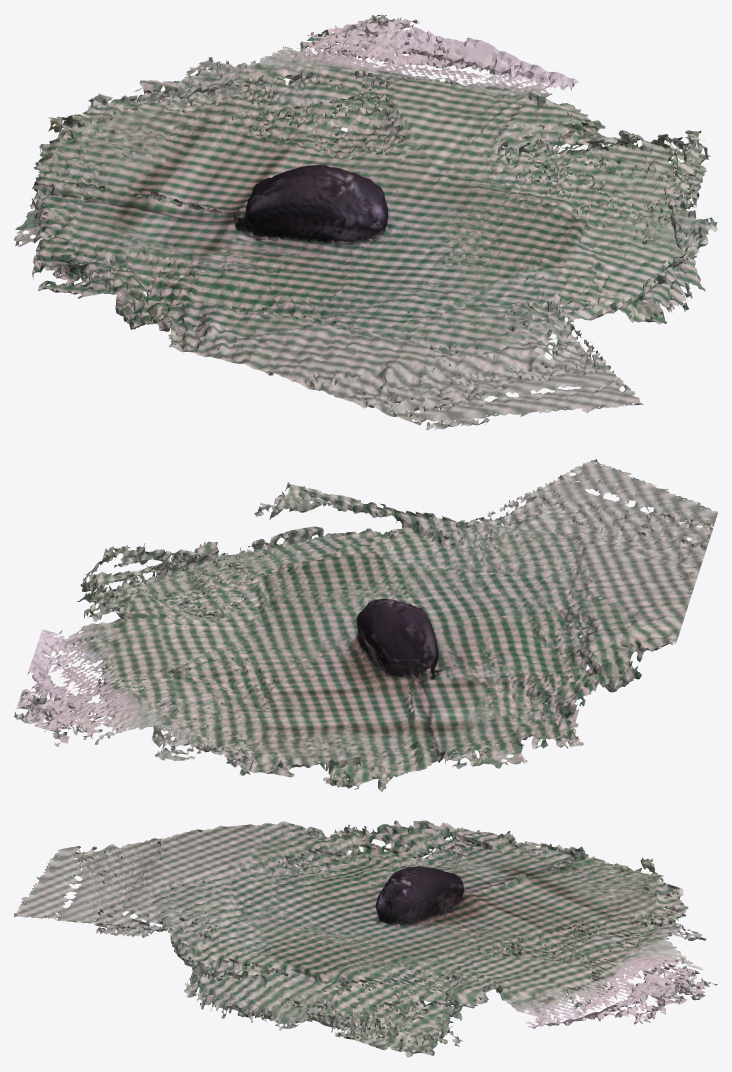
File: mouse_mesh_textured.glb
3 renders of one model, top to bottom at view 1: azimuth 30°, elevation 25°; view 2: azimuth 150°, elevation 25°; view 3: azimuth 270°, elevation 25°, orthographic. The views are drawn at different scales.
Visible parts, largest first — view 1: Scene; view 2: Scene; view 3: Scene.
Boxes of the visible parts, x1=… form: Scene: x1=14, y1=14, x2=717, y2=430; Scene: x1=14, y1=459, x2=717, y2=791; Scene: x1=14, y1=820, x2=717, y2=1057.
Bounding box in the file's own units: 1.7 × 0.2222 × 2.26.
1 material, 1 textured.
